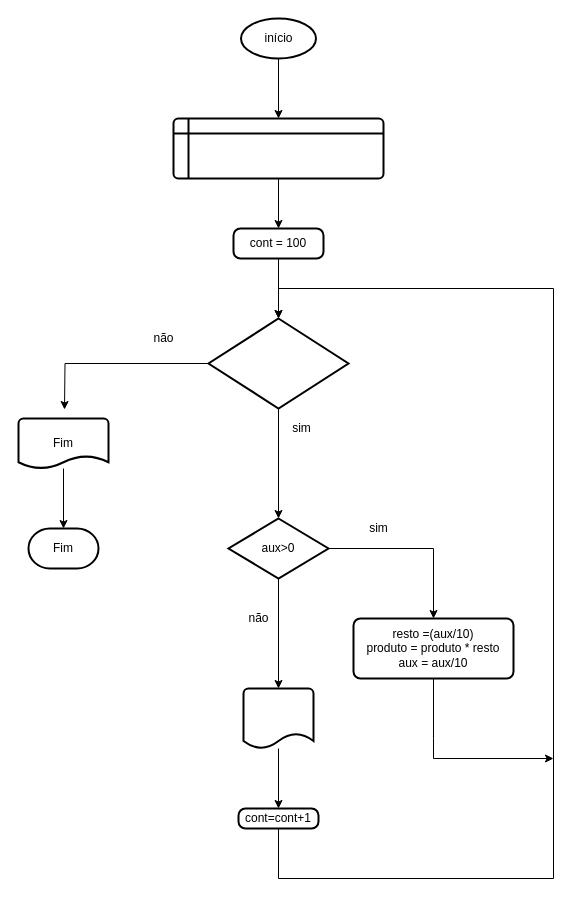
Image size: 579x904. Some labels were removed from this diagram. The shapes that lost their labels are listed below. From the top down, each one's box as (x1, y1, x2, y2) in pixels, then its label:
(172, 117, 384, 179): cont, aux, resto, produto;
(207, 317, 349, 409): cont > 99 E cont< 100
(242, 687, 314, 749): produto cont
